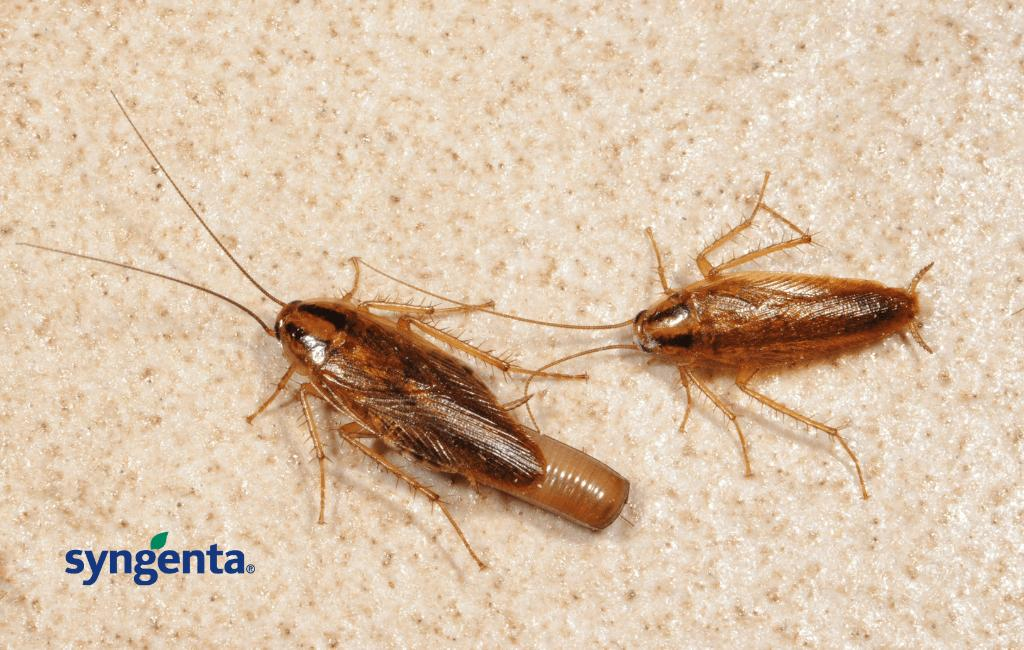cockroach: (266, 286, 551, 504), (624, 260, 935, 382)
